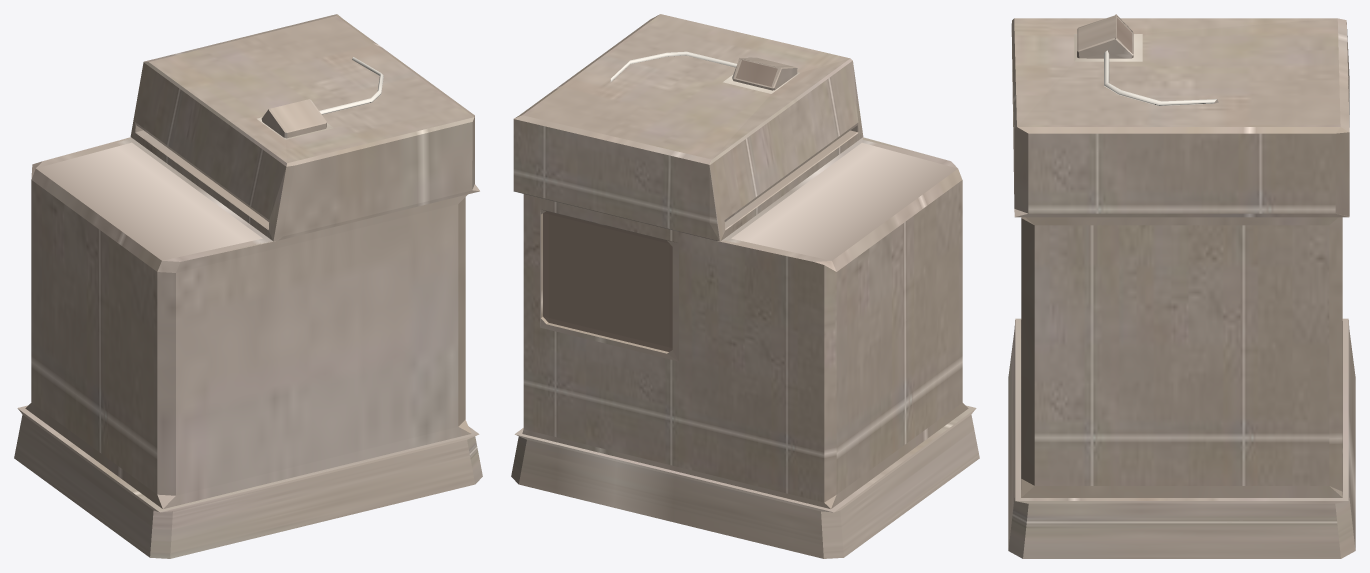
File: Printer.fbx
3 views of the same model, side by side, from view 1: azimuth 30°, elevation 25°; view 2: azimuth 150°, elevation 25°; view 3: azimuth 270°, elevation 25° (orthographic). The views are drawn at different scales.
Parts seen in each view (by area): view 1: Cube.278; view 2: Cube.278; view 3: Cube.278.
Boxes of the visible parts, box(x1,y1,x2,y2) form: Cube.278: box(14, 14, 482, 558); Cube.278: box(511, 14, 979, 558); Cube.278: box(1008, 14, 1355, 558).
Bounding box in the file's own units: 87.11 × 95.73 × 67.24.
1 material, 1 textured.
